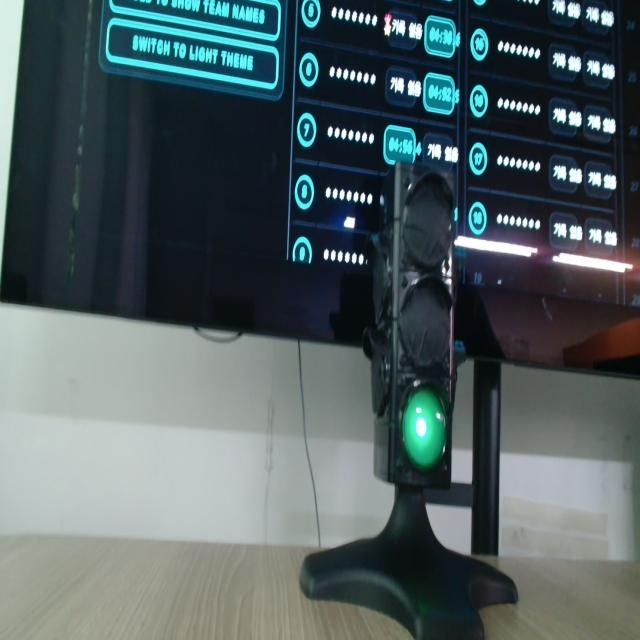green_light: (403, 388, 445, 469)
